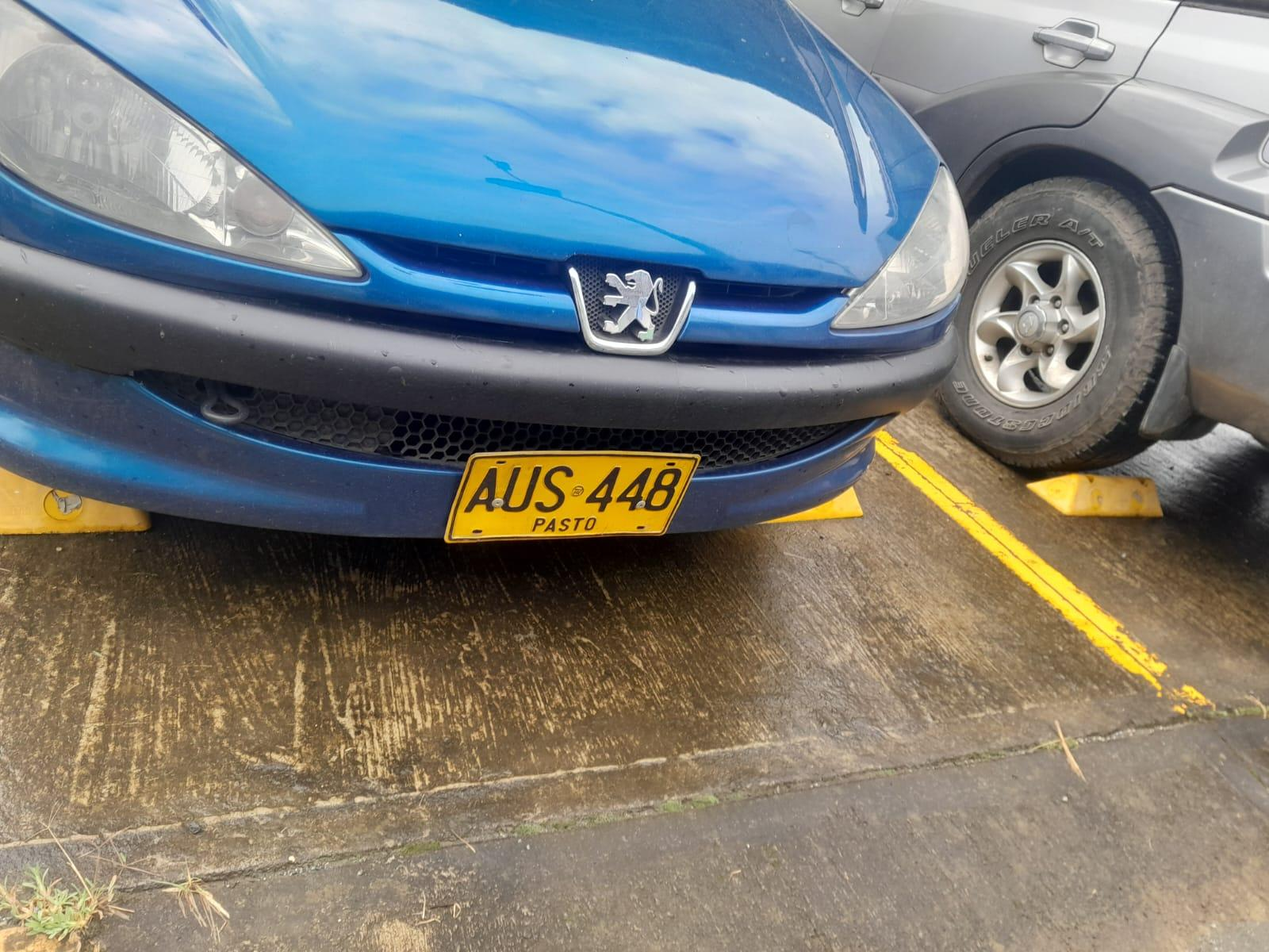placa: (446, 451, 700, 541)
